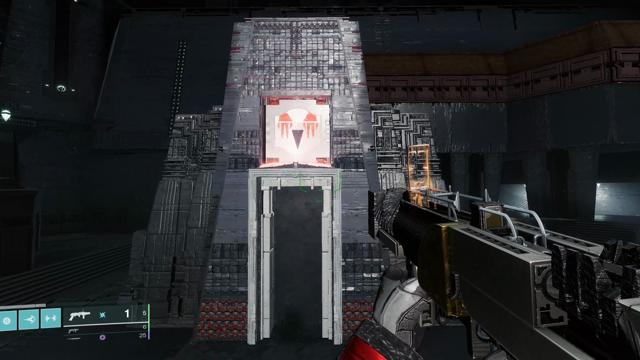give: (275, 108, 322, 154)
